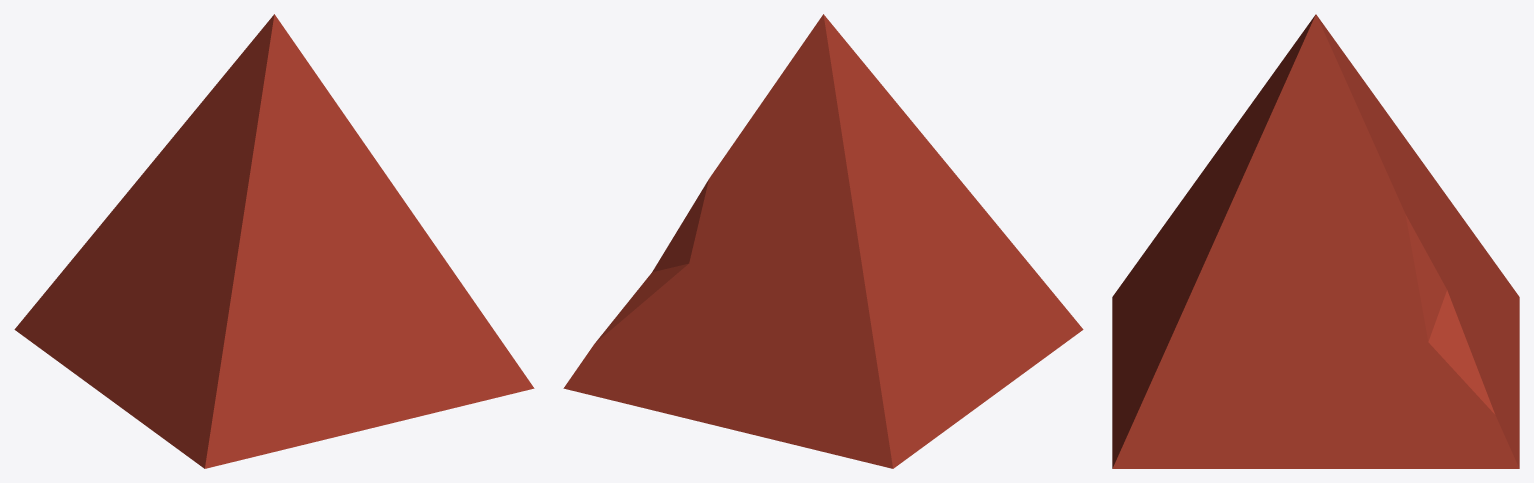
The model's file is SM_Prop_ToyBlock_02.fbx.
3 views of the same model, side by side, from view 1: azimuth 30°, elevation 25°; view 2: azimuth 150°, elevation 25°; view 3: azimuth 270°, elevation 25° (orthographic). The views are drawn at different scales.
Parts seen in each view (by area): view 1: SM_Prop_ToyBlock_02; view 2: SM_Prop_ToyBlock_02; view 3: SM_Prop_ToyBlock_02.
Boxes of the visible parts, x1,y1,x2,y2 form: SM_Prop_ToyBlock_02: (14,14,534,468); SM_Prop_ToyBlock_02: (563,14,1083,468); SM_Prop_ToyBlock_02: (1112,14,1519,468).
Size of the model in its own units: 20.19 by 20.19 by 20.19.
